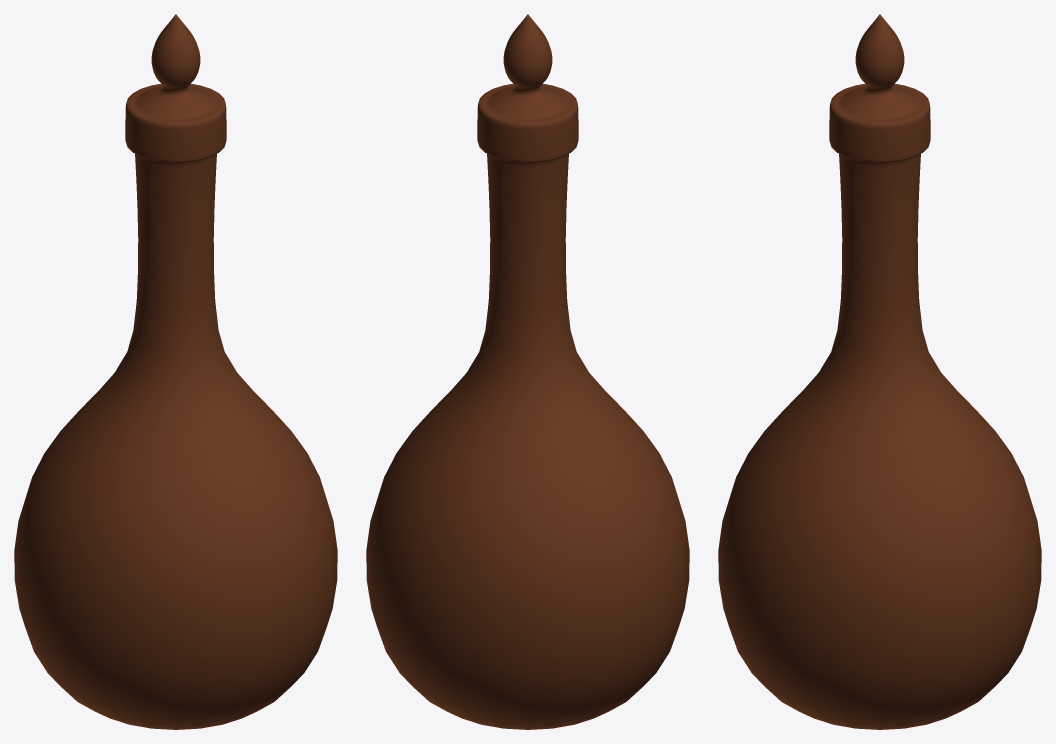
File: FlaskTerracotta.fbx
The picture shows the model from 3 angles, left to right: view 1: azimuth 30°, elevation 25°; view 2: azimuth 150°, elevation 25°; view 3: azimuth 270°, elevation 25°; orthographic projection.
Visible parts, largest first — view 1: TipJar.002; view 2: TipJar.002; view 3: TipJar.002.
Part boxes in pixels (bbox=[...]): TipJar.002: bbox=[14, 14, 337, 729]; TipJar.002: bbox=[366, 14, 689, 729]; TipJar.002: bbox=[718, 14, 1041, 729].
Size of the model in its own units: 24.48 by 57 by 24.48.
